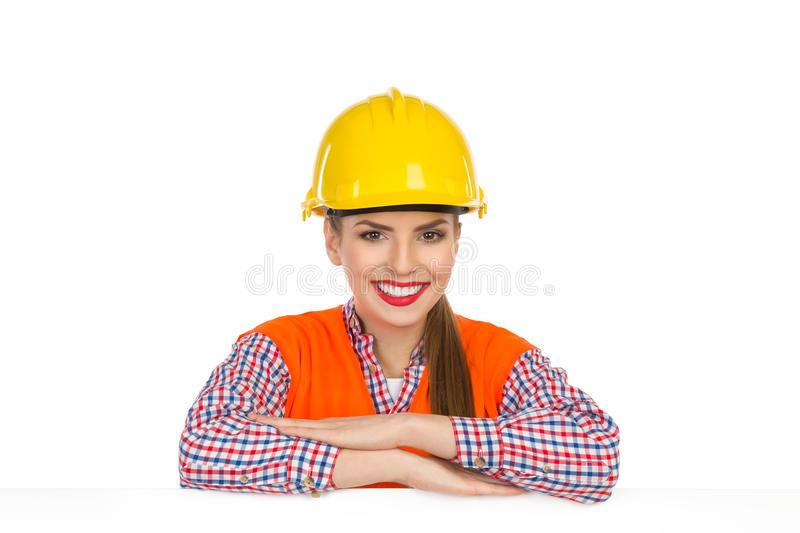helmet: (298, 87, 491, 227)
